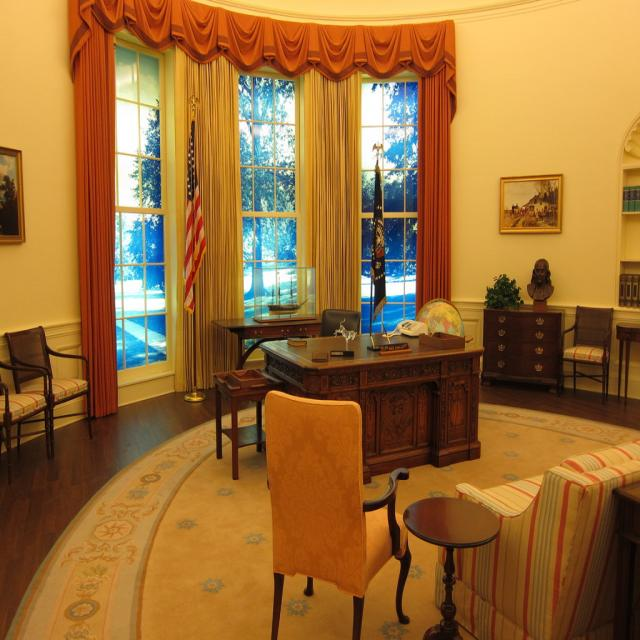chair: (264, 389, 412, 640), (2, 326, 92, 461), (562, 305, 613, 405)
desk: (255, 322, 480, 498)
